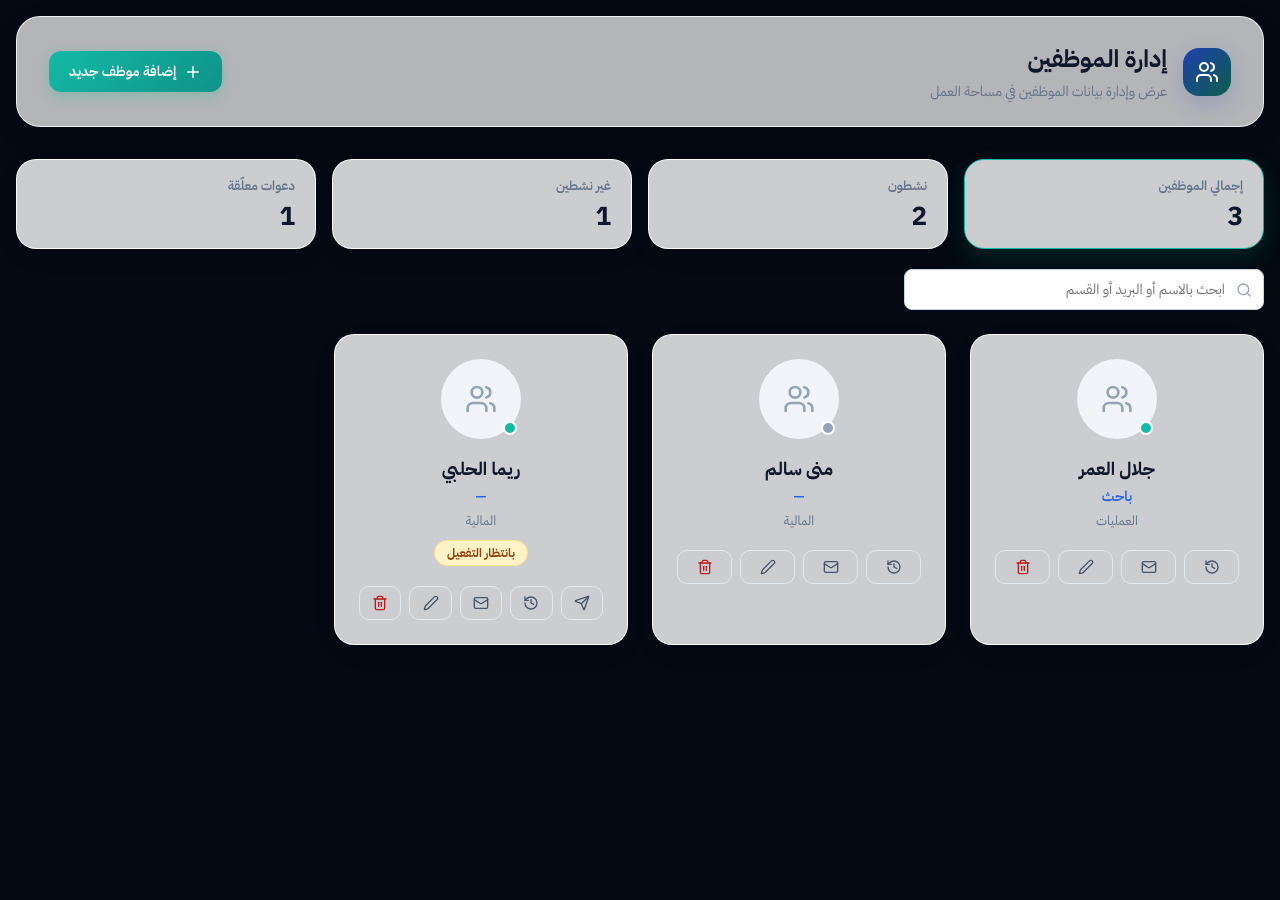
it: employees: figures and filters › counts come from the listed employees and each figure filters the cards
This screenshot has width=1280, height=900.
Expected: the heading "جلال العمر" is shown, 1079,455 -> 1155,482
What coordinates should you click on to do the following:
click the button "غير نشطين 1"
I would click on:
 (583, 186)
Its box is 332,159 -> 632,249.
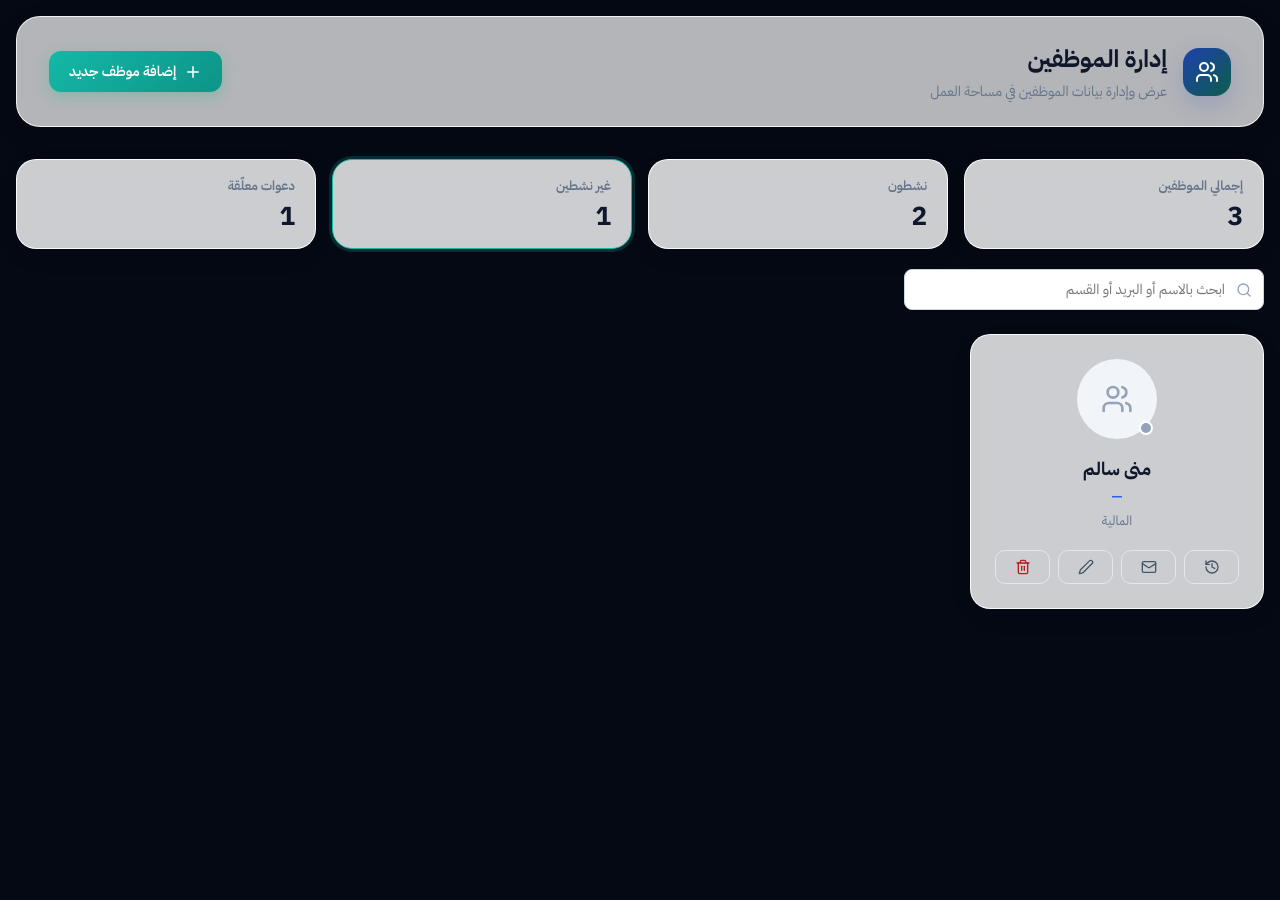
Expected: the heading "منى سالم" is shown, 1083,455 -> 1151,482
Expected: the heading "جلال العمر" is gone
What coordinates should you click on to do the following:
click the button "دعوات معلّقة 1"
I would click on:
 (261, 186)
Its box is 16,159 -> 316,249.
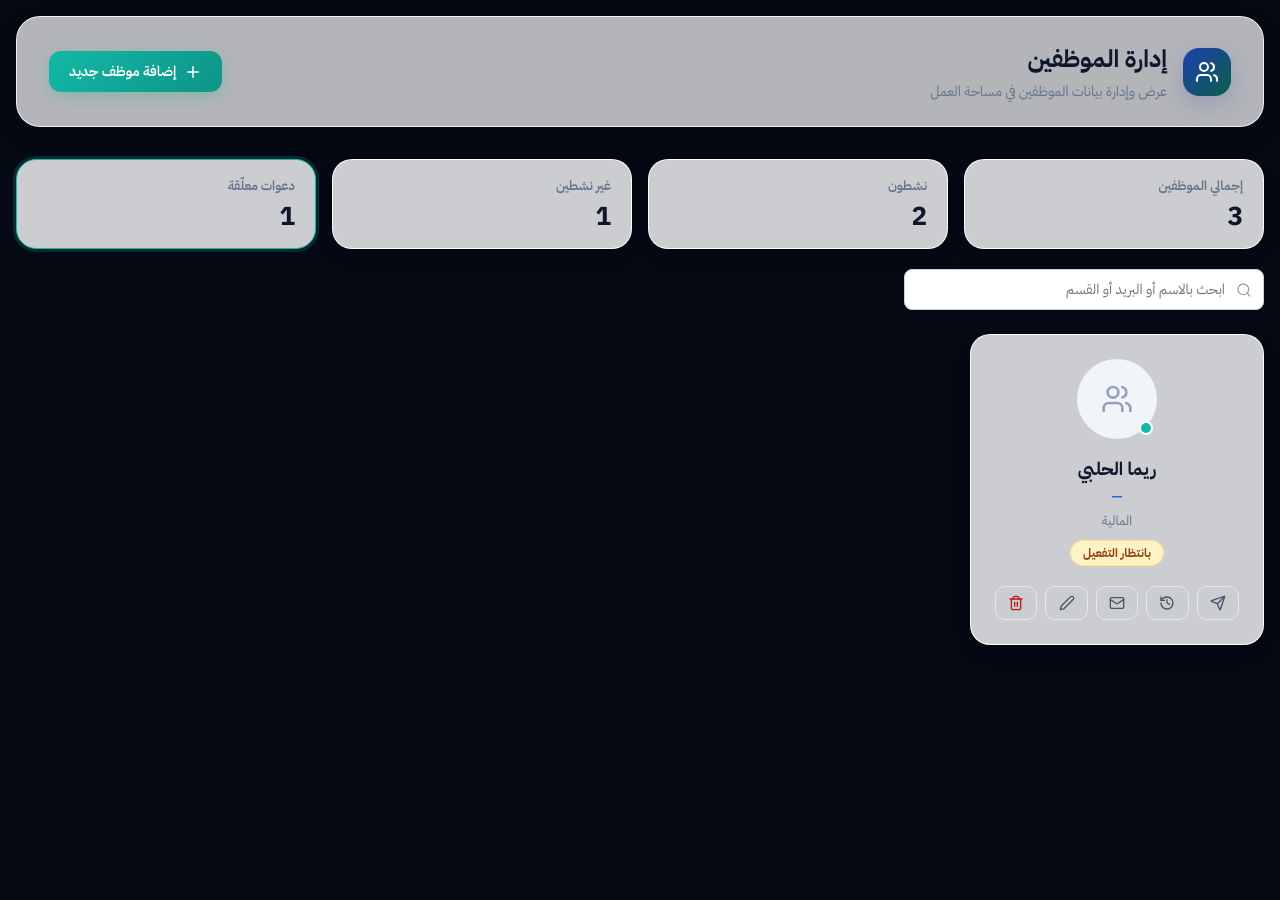
Expected: the heading "ريما الحلبي" is shown, 1078,455 -> 1156,482
Expected: the heading "منى سالم" is gone
